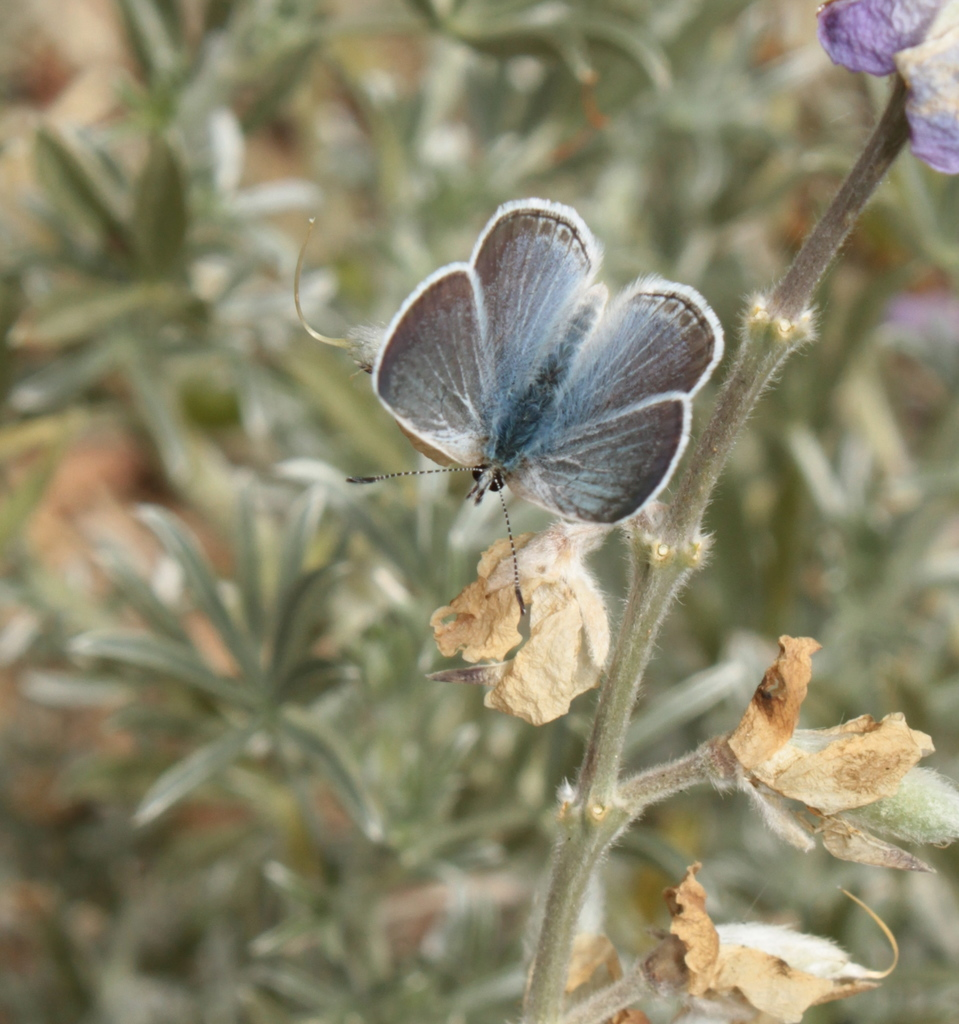Butterfly: (329, 167, 725, 576)
